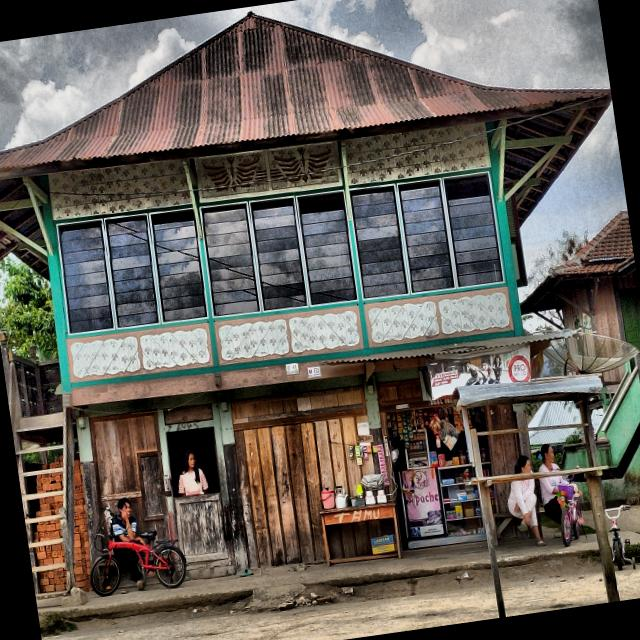ornamen: (364, 287, 514, 347), (66, 322, 214, 382), (215, 306, 364, 365)
roof: (0, 15, 612, 283), (520, 211, 635, 311)
stair: (9, 363, 76, 600)
wall: (194, 140, 364, 367), (345, 122, 514, 348), (48, 160, 215, 386), (231, 386, 374, 569), (89, 412, 169, 538)
window: (444, 173, 503, 287), (298, 192, 357, 304), (351, 186, 408, 298), (398, 180, 454, 292), (151, 212, 206, 321), (204, 206, 258, 315), (252, 200, 306, 309), (60, 222, 113, 332), (107, 216, 158, 327)
